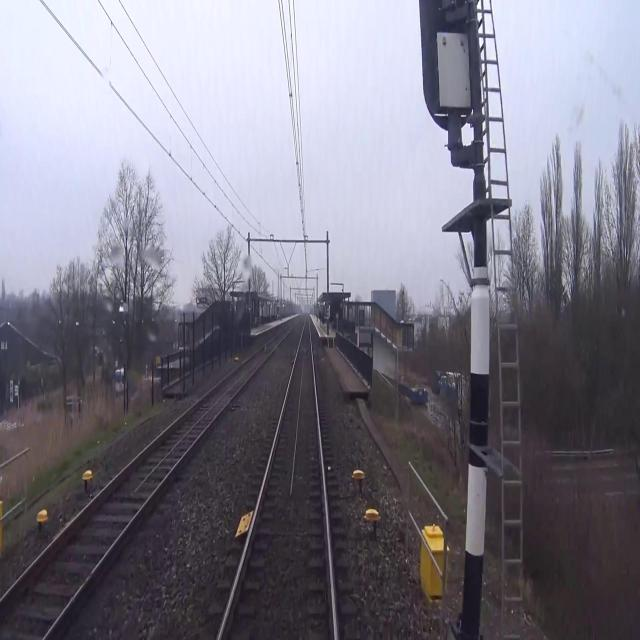rail-track: (0, 328, 289, 639), (220, 318, 332, 639)
